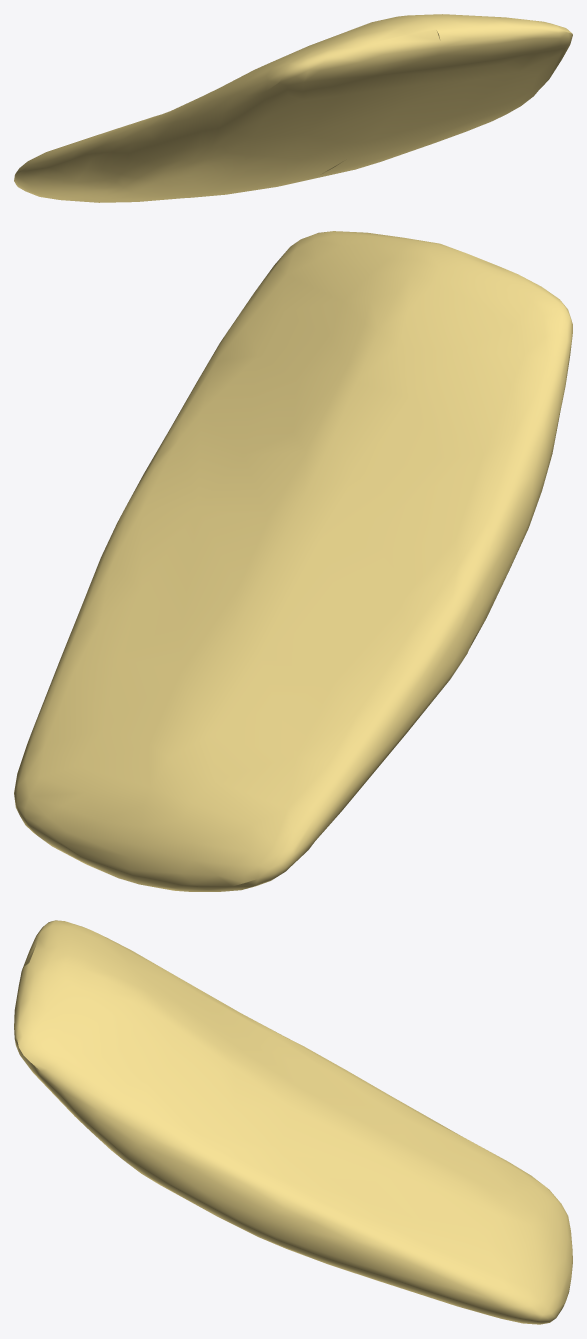
The picture shows the model from 3 angles, top to bottom: view 1: azimuth 30°, elevation 25°; view 2: azimuth 150°, elevation 25°; view 3: azimuth 270°, elevation 25°; orthographic projection. The views are drawn at different scales.
Visible parts, largest first — view 1: ZA_17aff73ac9b141fd; view 2: ZA_17aff73ac9b141fd; view 3: ZA_17aff73ac9b141fd.
Boxes of the visible parts, x1=… form: ZA_17aff73ac9b141fd: x1=14, y1=14, x2=572, y2=202; ZA_17aff73ac9b141fd: x1=14, y1=231, x2=572, y2=891; ZA_17aff73ac9b141fd: x1=14, y1=920, x2=572, y2=1324.
Bounding box in the file's own units: 0.0102 × 0.0108 × 0.0161.
